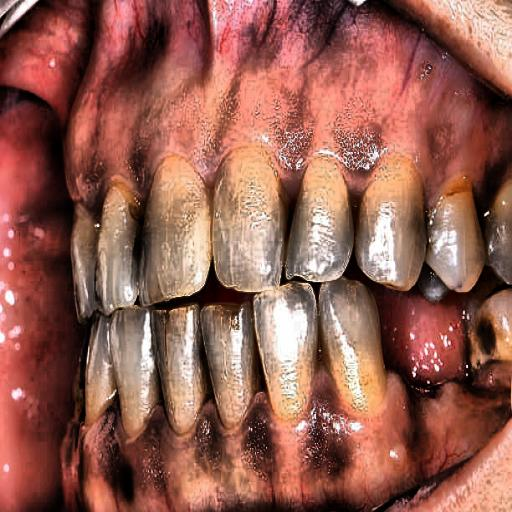Calculus: (34, 100, 512, 427)
